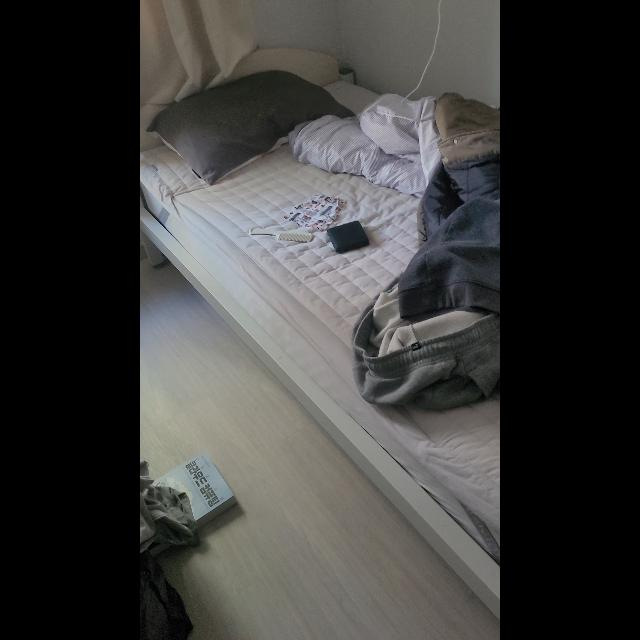COMB: (250, 228, 312, 244)
Glasses cleaning cloth: (282, 193, 348, 231)
WALLET: (326, 220, 369, 253)
